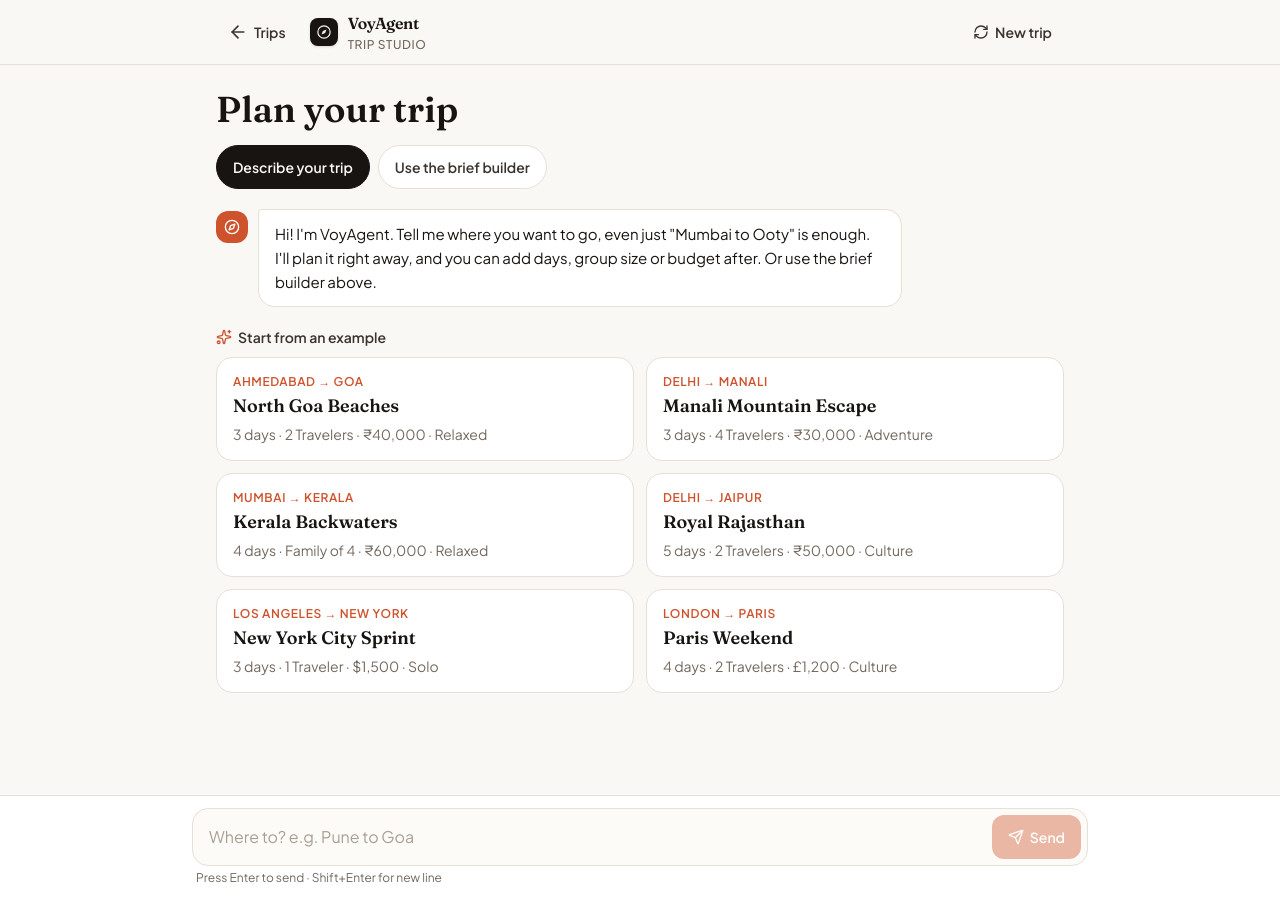
Test case: Trip planner › fills the default budget example when there is no suggestion
This screenshot has width=1280, height=900.
Step 1. Type "Goa trip" into the text box named "describe your trip" → [591, 837], box [199,815,984,859]
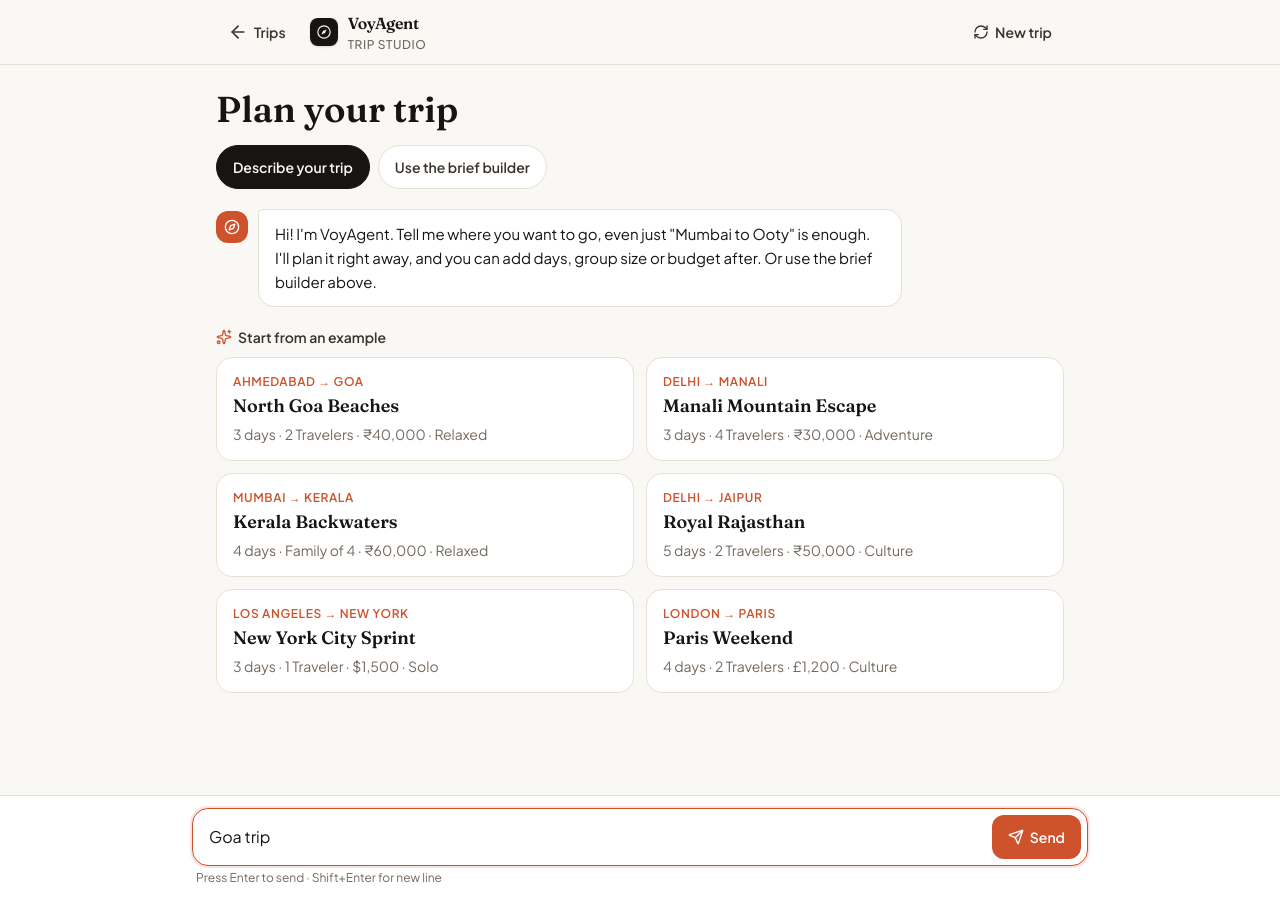
Step 2. Click the button with aria-label "Send message" → [1036, 837], box [992,815,1081,859]
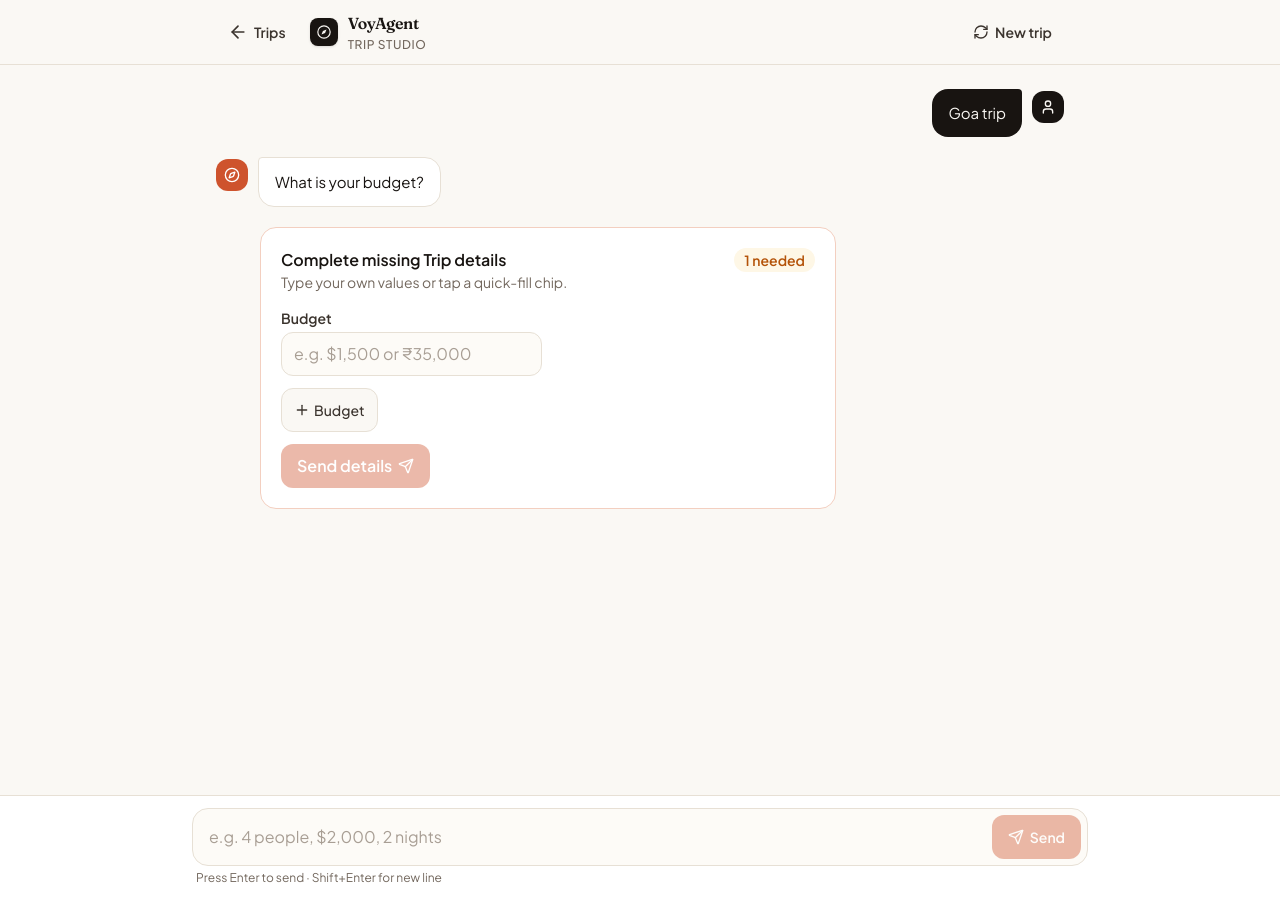
Step 3. Click the button "Budget" → [329, 410], box [281,388,378,432]
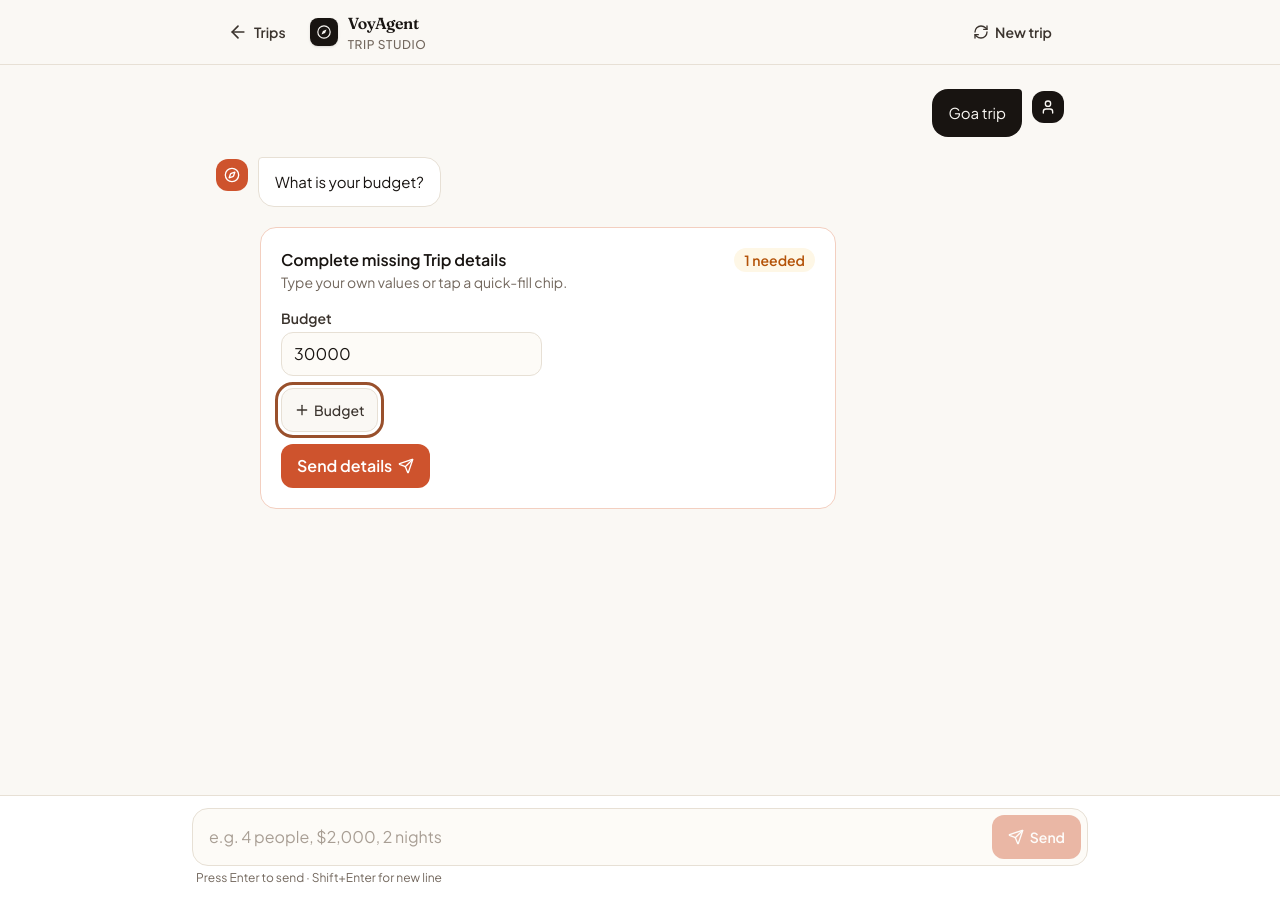
Check: the text box named "describe your trip" is empty, box [199,815,984,859]
Check: the field labelled "Budget" holds "30000", box [281,332,542,376]
